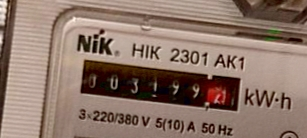0: (85, 69, 98, 89), (108, 71, 119, 90)
1: (150, 72, 159, 92)
3: (129, 75, 138, 94)
6: (211, 90, 222, 107)
9: (189, 81, 200, 99), (170, 77, 179, 95)
screen: (73, 54, 247, 118)
